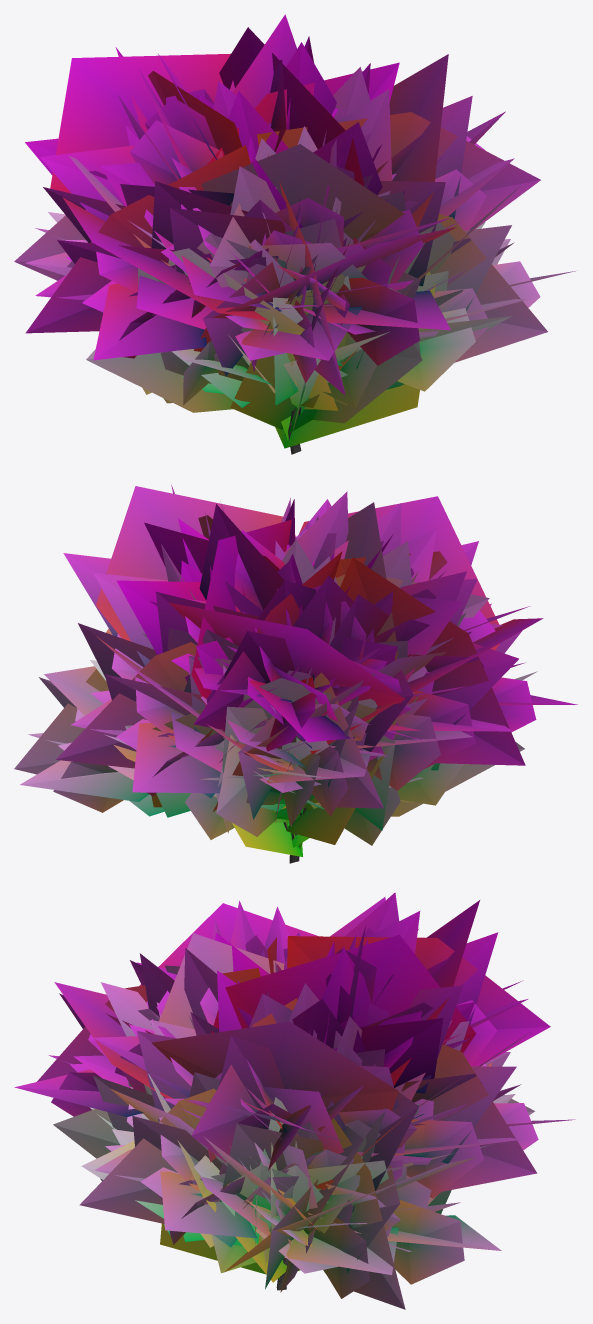
File: filber_tree_9.FBX
3 views of the same model, one above another, from view 1: azimuth 30°, elevation 25°; view 2: azimuth 150°, elevation 25°; view 3: azimuth 270°, elevation 25° (orthographic). The views are drawn at different scales.
Visible parts, largest first — view 1: filbert_leaves_lod_0, filbert_leaves_shadow; view 2: filbert_leaves_lod_0, filbert_leaves_shadow; view 3: filbert_leaves_lod_0, filbert_leaves_shadow.
Boxes of the visible parts, x1,y1,x2,y2 form: filbert_leaves_lod_0: [25, 14, 575, 432]; filbert_leaves_shadow: [14, 27, 547, 448]; filbert_leaves_lod_0: [20, 485, 577, 845]; filbert_leaves_shadow: [14, 486, 543, 856]; filbert_leaves_lod_0: [14, 892, 575, 1298]; filbert_leaves_shadow: [37, 900, 550, 1309].
Size of what is drawn, in the model's own units: 6.14 by 4.84 by 6.48.
